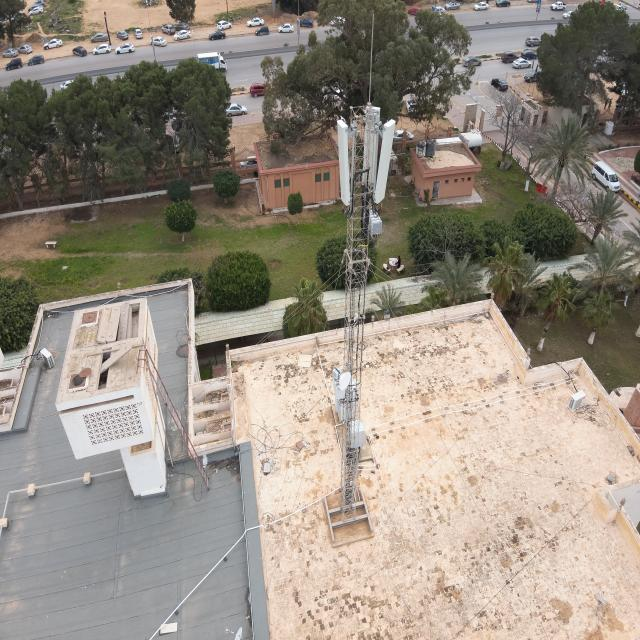antenna: (374, 119, 397, 202), (362, 105, 381, 188), (335, 118, 352, 205)
lighnig-rad: (368, 10, 376, 103)
microware-dish: (332, 364, 352, 391)
power-box: (333, 376, 346, 400)
radio-unit: (369, 205, 382, 237)
